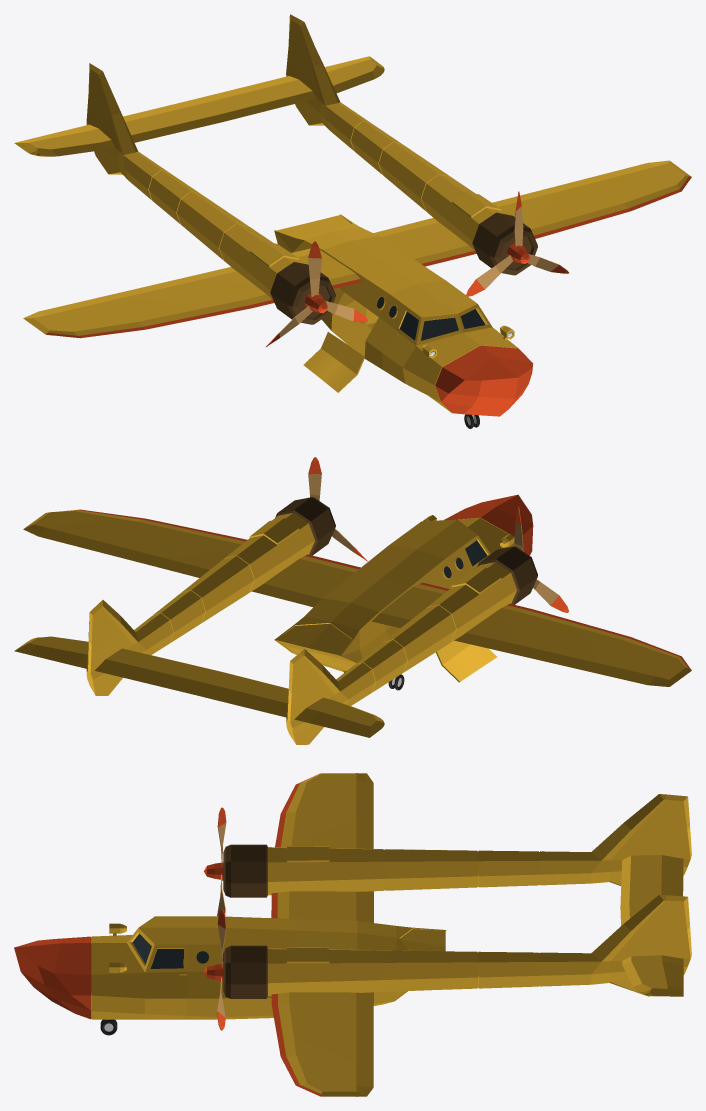
3 views of the same model, one above another, from view 1: azimuth 30°, elevation 25°; view 2: azimuth 150°, elevation 25°; view 3: azimuth 270°, elevation 25° (orthographic). The views are drawn at different scales.
Visible parts, largest first — view 1: Plane, Door, Right_Fan, Left_Fan; view 2: Plane, Door, Right_Fan, Left_Fan; view 3: Plane, Left_Fan.
Part boxes in pixels (<box>): Plane: <box>14,14,691,428</box>; Door: <box>303,332,364,392</box>; Right_Fan: <box>266,241,367,346</box>; Left_Fan: <box>466,191,568,296</box>; Plane: <box>14,494,691,744</box>; Door: <box>436,640,496,682</box>; Right_Fan: <box>514,506,568,612</box>; Left_Fan: <box>308,457,367,561</box>; Plane: <box>14,773,691,1096</box>; Left_Fan: <box>217,909,226,1030</box>.
Bounding box in the file's own units: 37.56 × 10.25 × 33.26.
